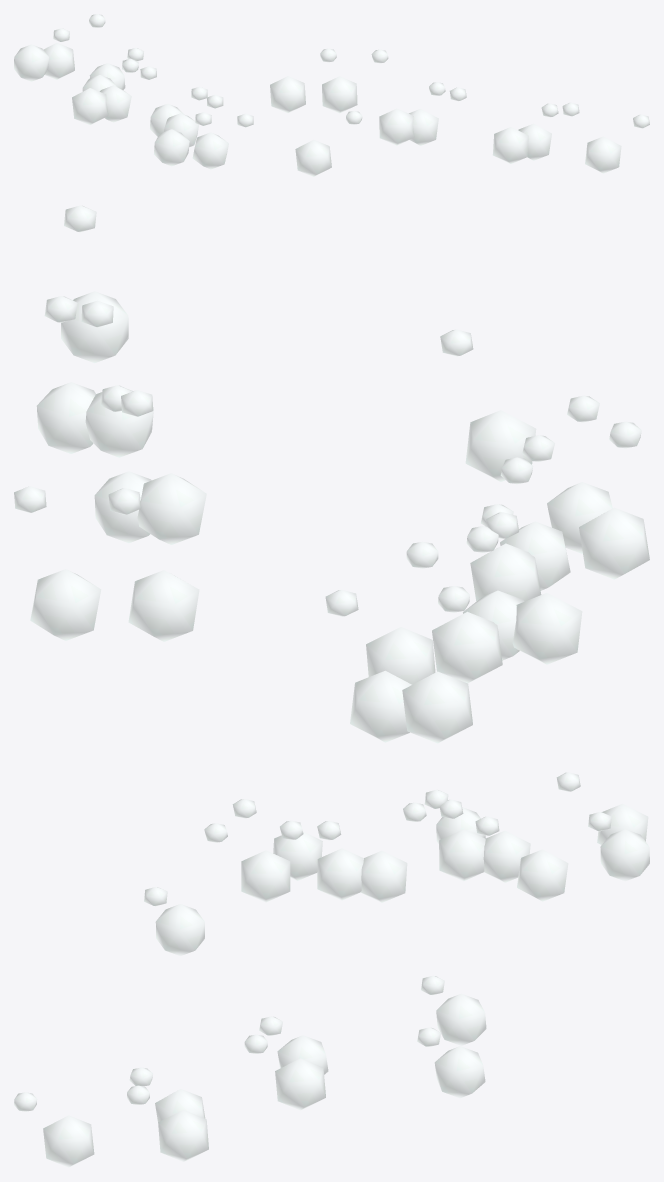
The model's file is model_chunk_1.glb.
3 views of the same model, one above another, from view 1: azimuth 30°, elevation 25°; view 2: azimuth 150°, elevation 25°; view 3: azimuth 270°, elevation 25° (orthographic). The views are drawn at different scales.
Parts seen in each view (by area): view 1: SplashParticle01354, SplashParticle01376, SplashParticle01341, SplashParticle01346, SplashParticle01383, SplashParticle01339, SplashParticle01138, SplashParticle01328, SplashParticle01143, SplashParticle01144, SplashParticle01330, SplashParticle01363 (+6 smaller); view 2: SplashParticle01328, SplashParticle01324, SplashParticle01341, SplashParticle01143, SplashParticle01354, SplashParticle01138, SplashParticle01346, SplashParticle01330, SplashParticle01339, SplashParticle01378, SplashParticle01164, SplashParticle01325 (+6 smaller); view 3: SplashParticle01144, SplashParticle01378, SplashParticle01363, SplashParticle01383, SplashParticle01325, SplashParticle01330, SplashParticle01341, SplashParticle01339, SplashParticle01354, SplashParticle01213, SplashParticle01161, SplashParticle01164 (+6 smaller).
Boxes of the visible parts, x1,y1,x2,y2 form: SplashParticle01354: (322, 49, 388, 113); SplashParticle01376: (492, 103, 558, 163); SplashParticle01341: (270, 48, 336, 112); SplashParticle01346: (379, 82, 445, 145); SplashParticle01383: (585, 114, 649, 173); SplashParticle01339: (295, 111, 362, 176); SplashParticle01138: (72, 59, 138, 124); SplashParticle01328: (14, 28, 69, 81); SplashParticle01143: (154, 112, 211, 166); SplashParticle01144: (192, 113, 253, 169); SplashParticle01330: (43, 14, 105, 79); SplashParticle01363: (409, 87, 466, 145); SplashParticle01328: (402, 586, 472, 743); SplashParticle01324: (432, 526, 502, 683); SplashParticle01341: (108, 488, 199, 641); SplashParticle01143: (579, 421, 649, 579); SplashParticle01354: (14, 486, 101, 640); SplashParticle01138: (486, 512, 582, 664); SplashParticle01346: (121, 390, 206, 544); SplashParticle01330: (325, 590, 411, 742); SplashParticle01339: (440, 329, 536, 481); SplashParticle01378: (36, 296, 95, 453); SplashParticle01164: (470, 457, 541, 601); SplashParticle01325: (366, 541, 438, 684); SplashParticle01144: (204, 823, 290, 902); SplashParticle01378: (127, 1085, 208, 1161); SplashParticle01363: (244, 1034, 325, 1110); SplashParticle01383: (14, 1092, 94, 1167); SplashParticle01325: (475, 816, 568, 901); SplashParticle01330: (588, 812, 649, 881); SplashParticle01341: (421, 975, 486, 1045); SplashParticle01339: (144, 887, 204, 955); SplashParticle01354: (417, 1027, 485, 1098); SplashParticle01213: (403, 802, 485, 881); SplashParticle01161: (280, 820, 363, 900); SplashParticle01164: (317, 821, 407, 902).
Bounding box in the file's own units: 0.5312 × 0.1392 × 0.4954.
Materials: 1 (1 with a texture image).
